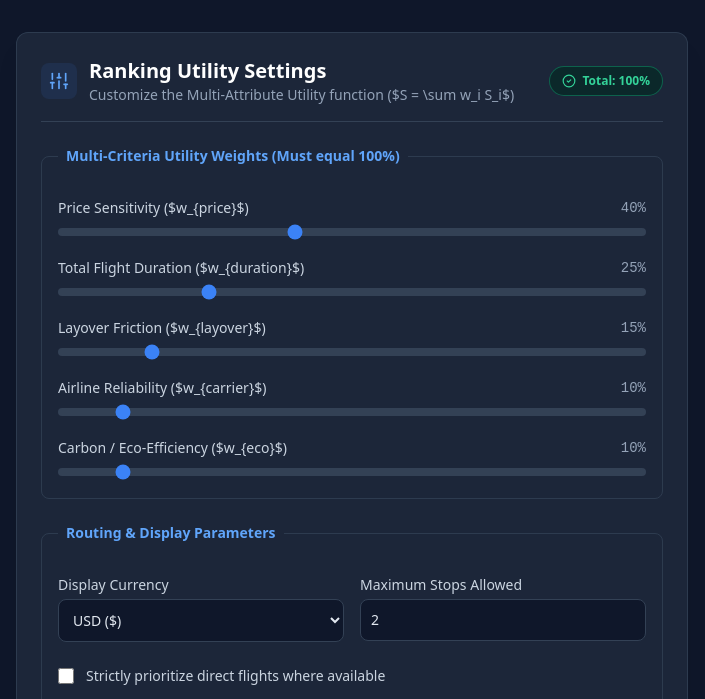
Test: SettingsForm Component (Round 2) › updates live total and displays validation alert when weights do not sum to 100%
Set the slider labelled "Price Sensitivity ($w_{price}$)" to "60" at x=409, y=232, box [58,228,646,236]
(page scrolled)
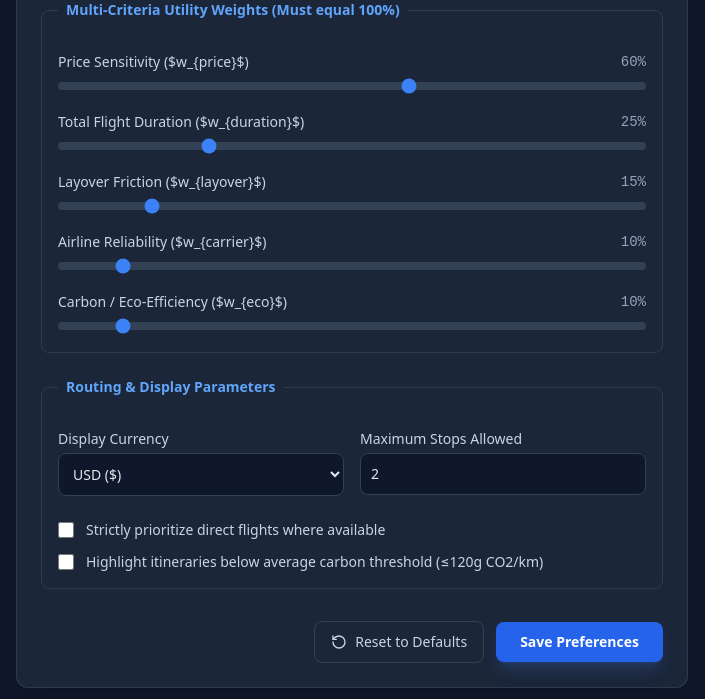
Click the button "Save Preferences".
click(580, 642)  # box [496,622,663,662]
(page scrolled)
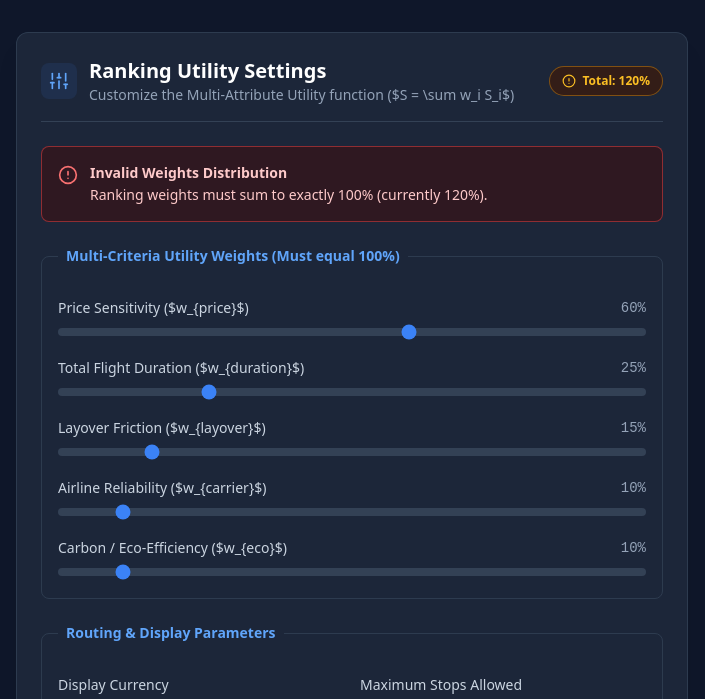
Expected: the message that starts with "Invalid Weights Distribution" is shown, [41,146,663,222]
Expected: the message that starts with "Invalid Weights Distribution" shows "must sum to exactly 100%", [90,185,488,204]
